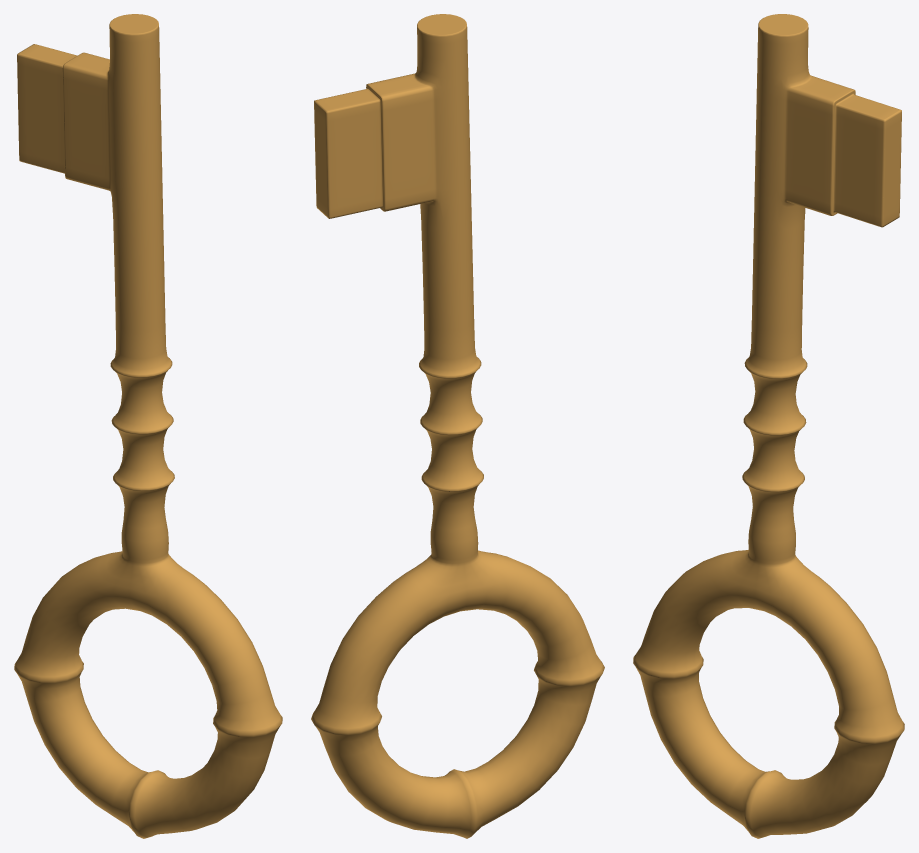
The picture shows the model from 3 angles, left to right: view 1: azimuth 90°, elevation 25°; view 2: azimuth 150°, elevation 25°; view 3: azimuth 270°, elevation 25°; orthographic projection.
Visible parts, largest first — view 1: Key; view 2: Key; view 3: Key.
Part boxes in pixels (x1=…): Key: x1=14, y1=14, x2=282, y2=838; Key: x1=311, y1=14, x2=604, y2=838; Key: x1=633, y1=14, x2=904, y2=838.
Size of the model in its own units: 0.1535 by 0.6528 by 0.1966.
